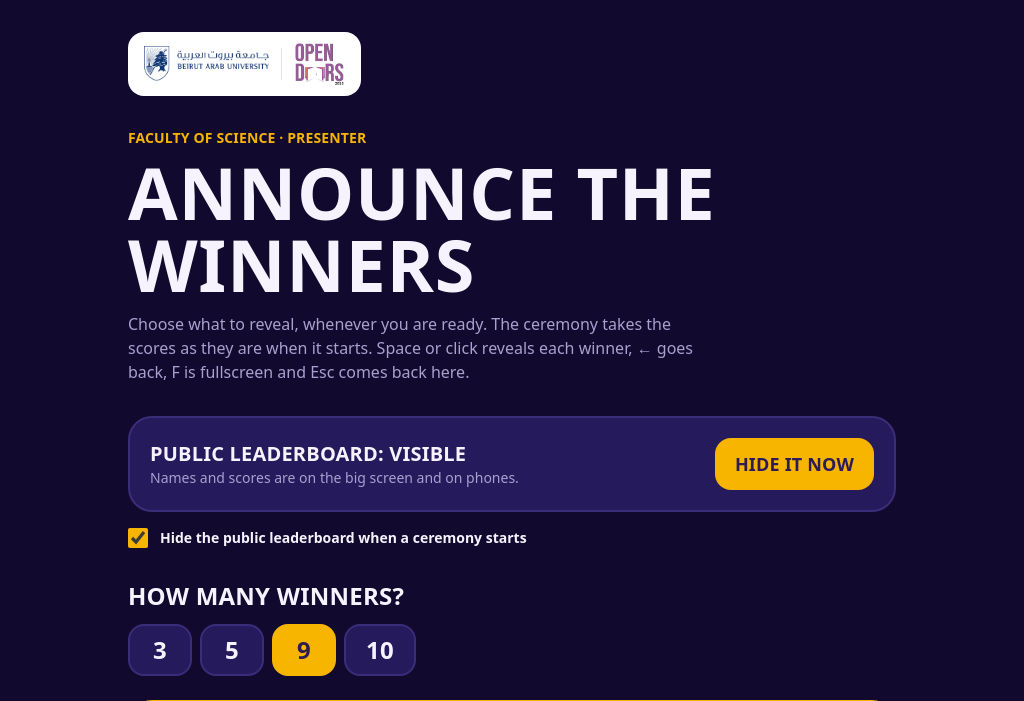
hides and shows the public leaderboard on demand
Click the button "Hide it now": x=794, y=464 [715,438,874,490]
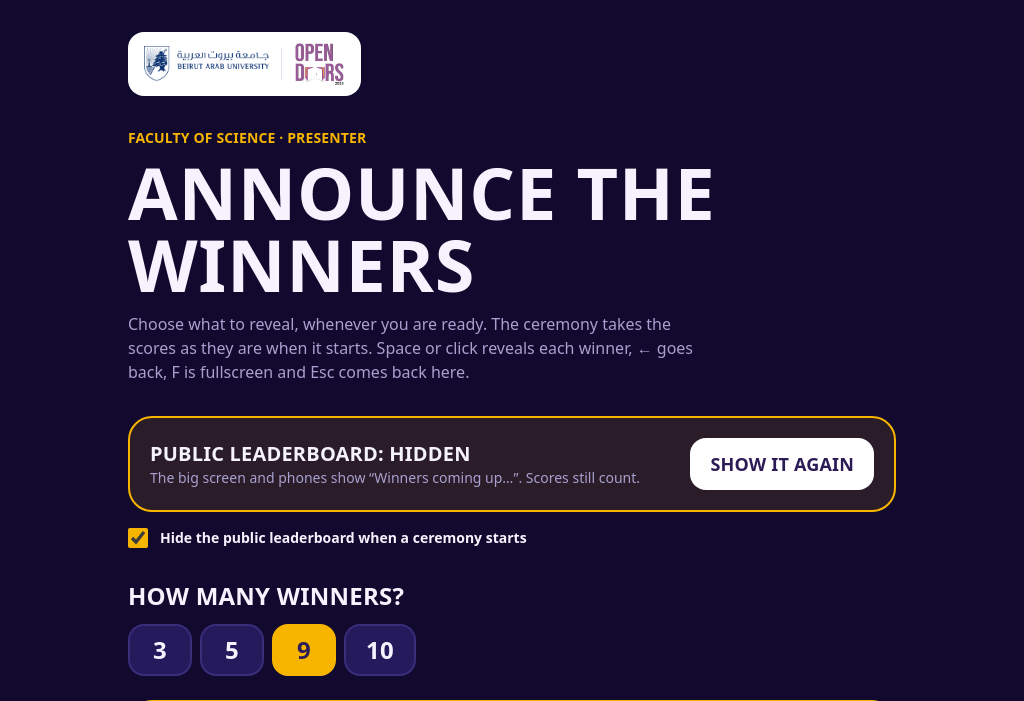
expect the text "Public leaderboard: hidden" is shown: met, box [150,440,471,467]
Click the button "Show it again": x=782, y=464 [690,438,874,490]
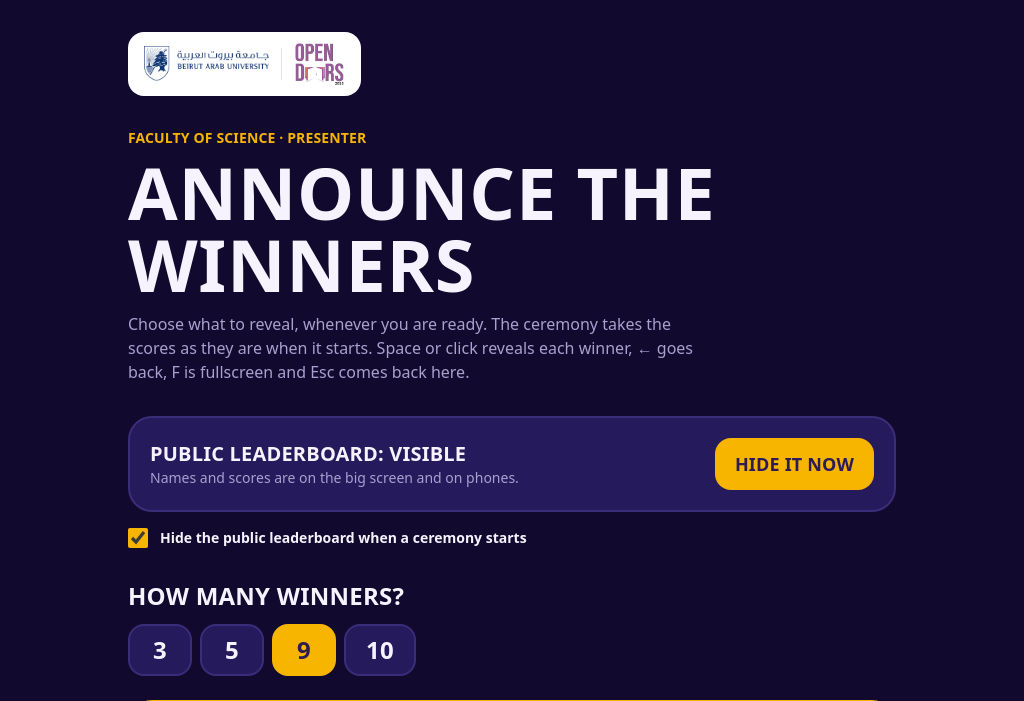
expect the text "Public leaderboard: visible" is shown: met, box [150,440,519,468]
